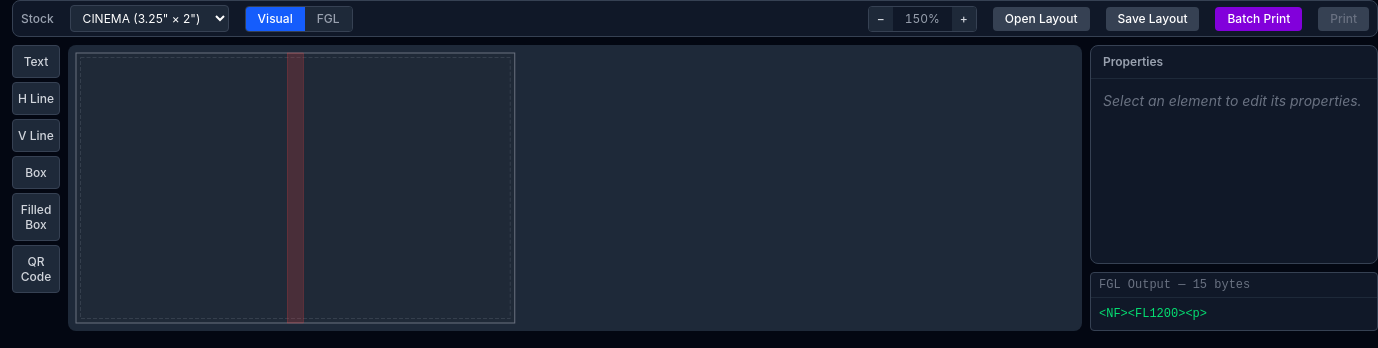
TicketEditor › shows "Layout saved" message after successful save
This screenshot has width=1378, height=348.
Click the button "Save Layout": {"x": 1152, "y": 18} [1106, 6, 1199, 30]
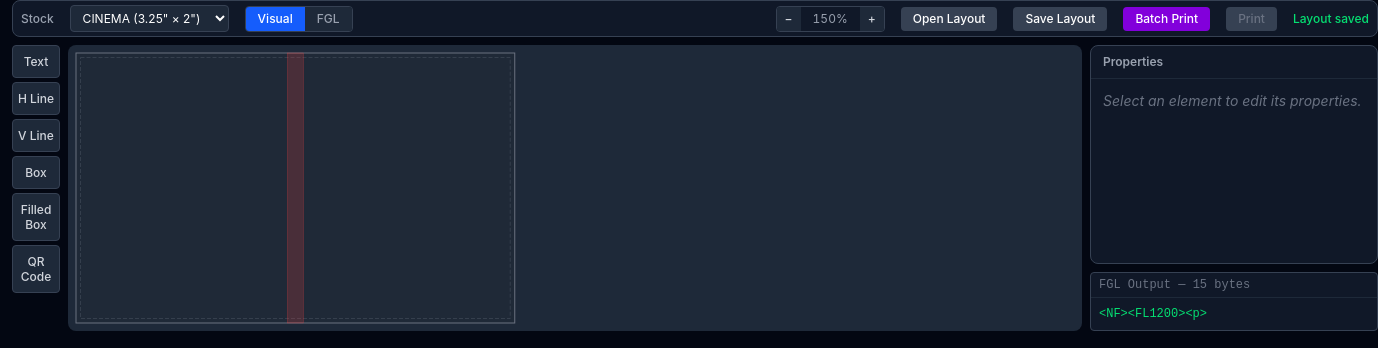
Now the text "Layout saved" is shown, box [1293, 10, 1369, 26]
